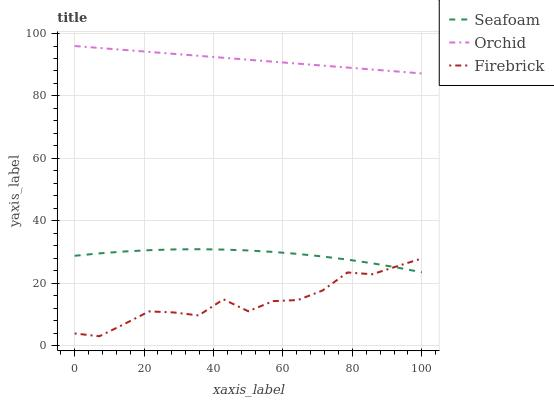axis: (67, 346, 440, 358), (52, 30, 63, 347)
legend: (441, 0, 554, 87)
line: (75, 258, 421, 340), (74, 43, 421, 76), (74, 246, 422, 277)
